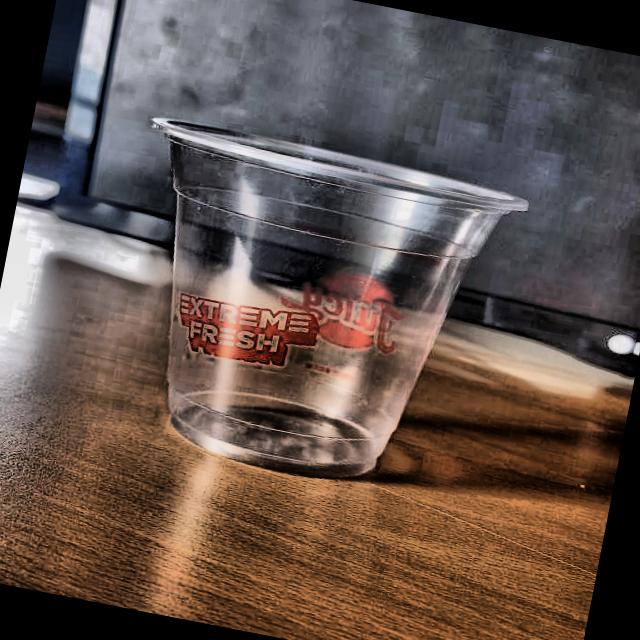plastic cup: (86, 108, 539, 511)
